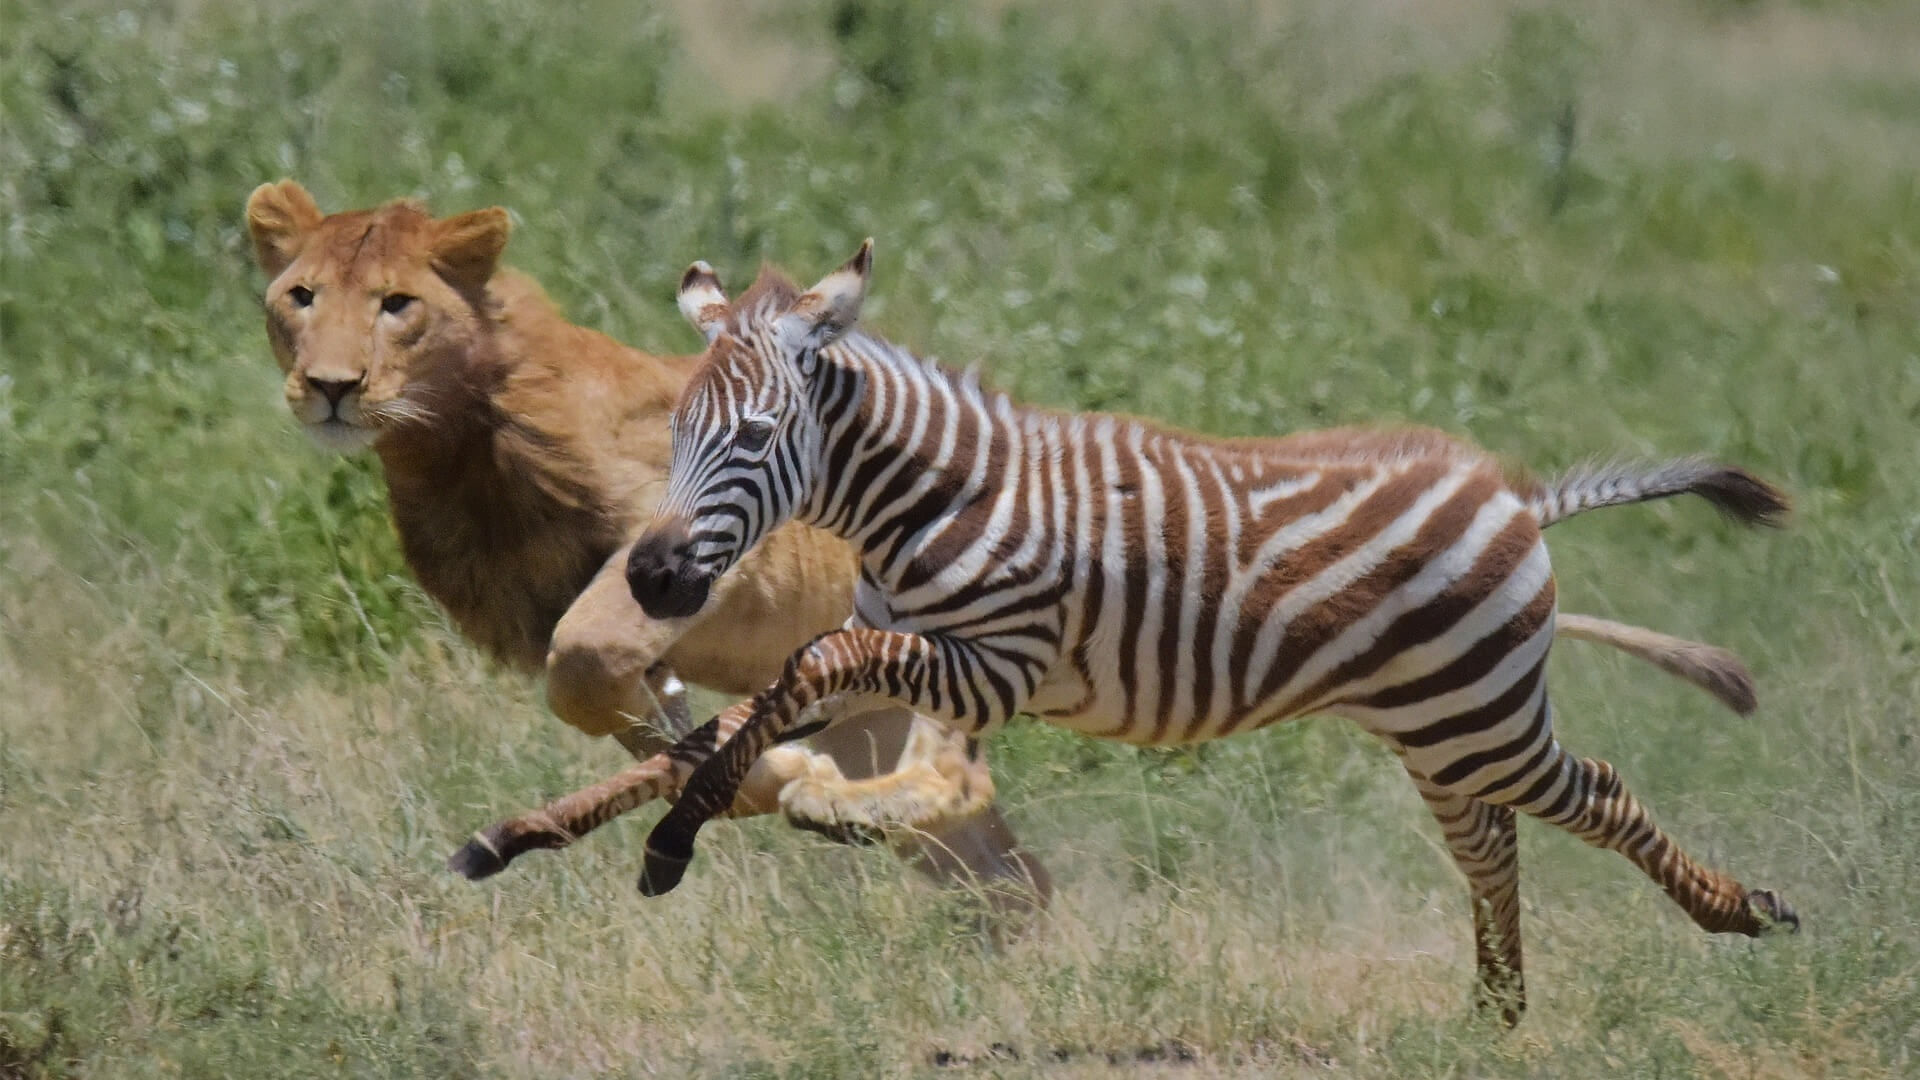lion: (232, 178, 1056, 920)
zebra: (611, 232, 1816, 1035)
